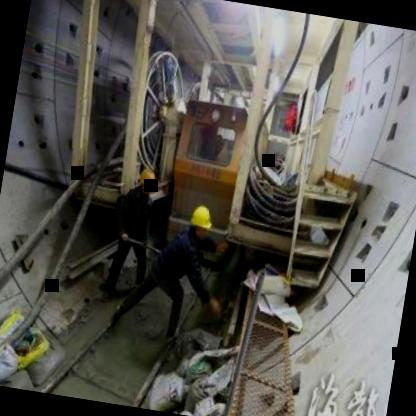helmet: (186, 200, 215, 246), (132, 165, 160, 200)
